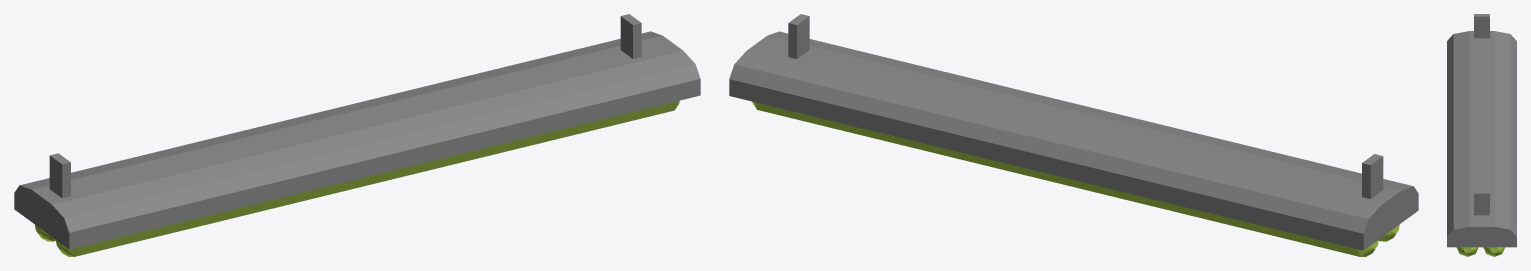
File: MC_Light.fbx
3 renders of one model, left to right at view 1: azimuth 30°, elevation 25°; view 2: azimuth 150°, elevation 25°; view 3: azimuth 270°, elevation 25°, orthographic. The views are drawn at different scales.
Parts seen in each view (by area): view 1: Circle; view 2: Circle; view 3: Circle.
Boxes of the visible parts, box(x1,y1,x2,y2) form: Circle: box(14, 14, 700, 256); Circle: box(729, 14, 1418, 256); Circle: box(1447, 14, 1516, 256).
Bounding box in the file's own units: 4092 × 552 × 616.
